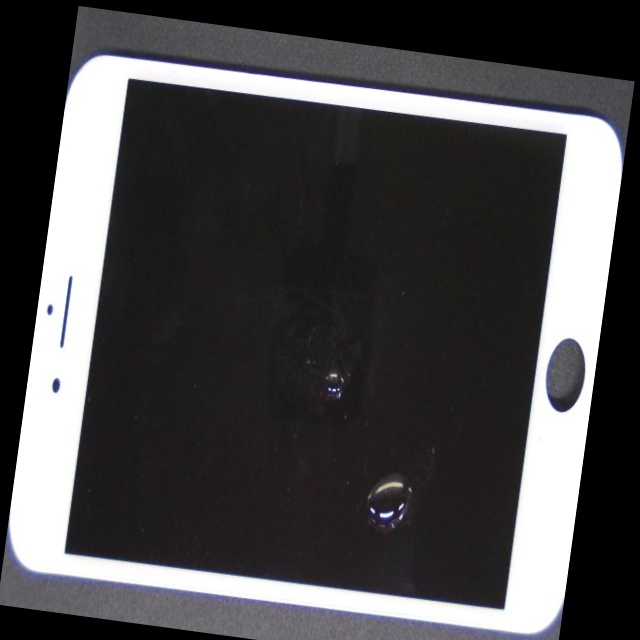oil: (206, 257, 604, 640), (173, 210, 533, 569)
